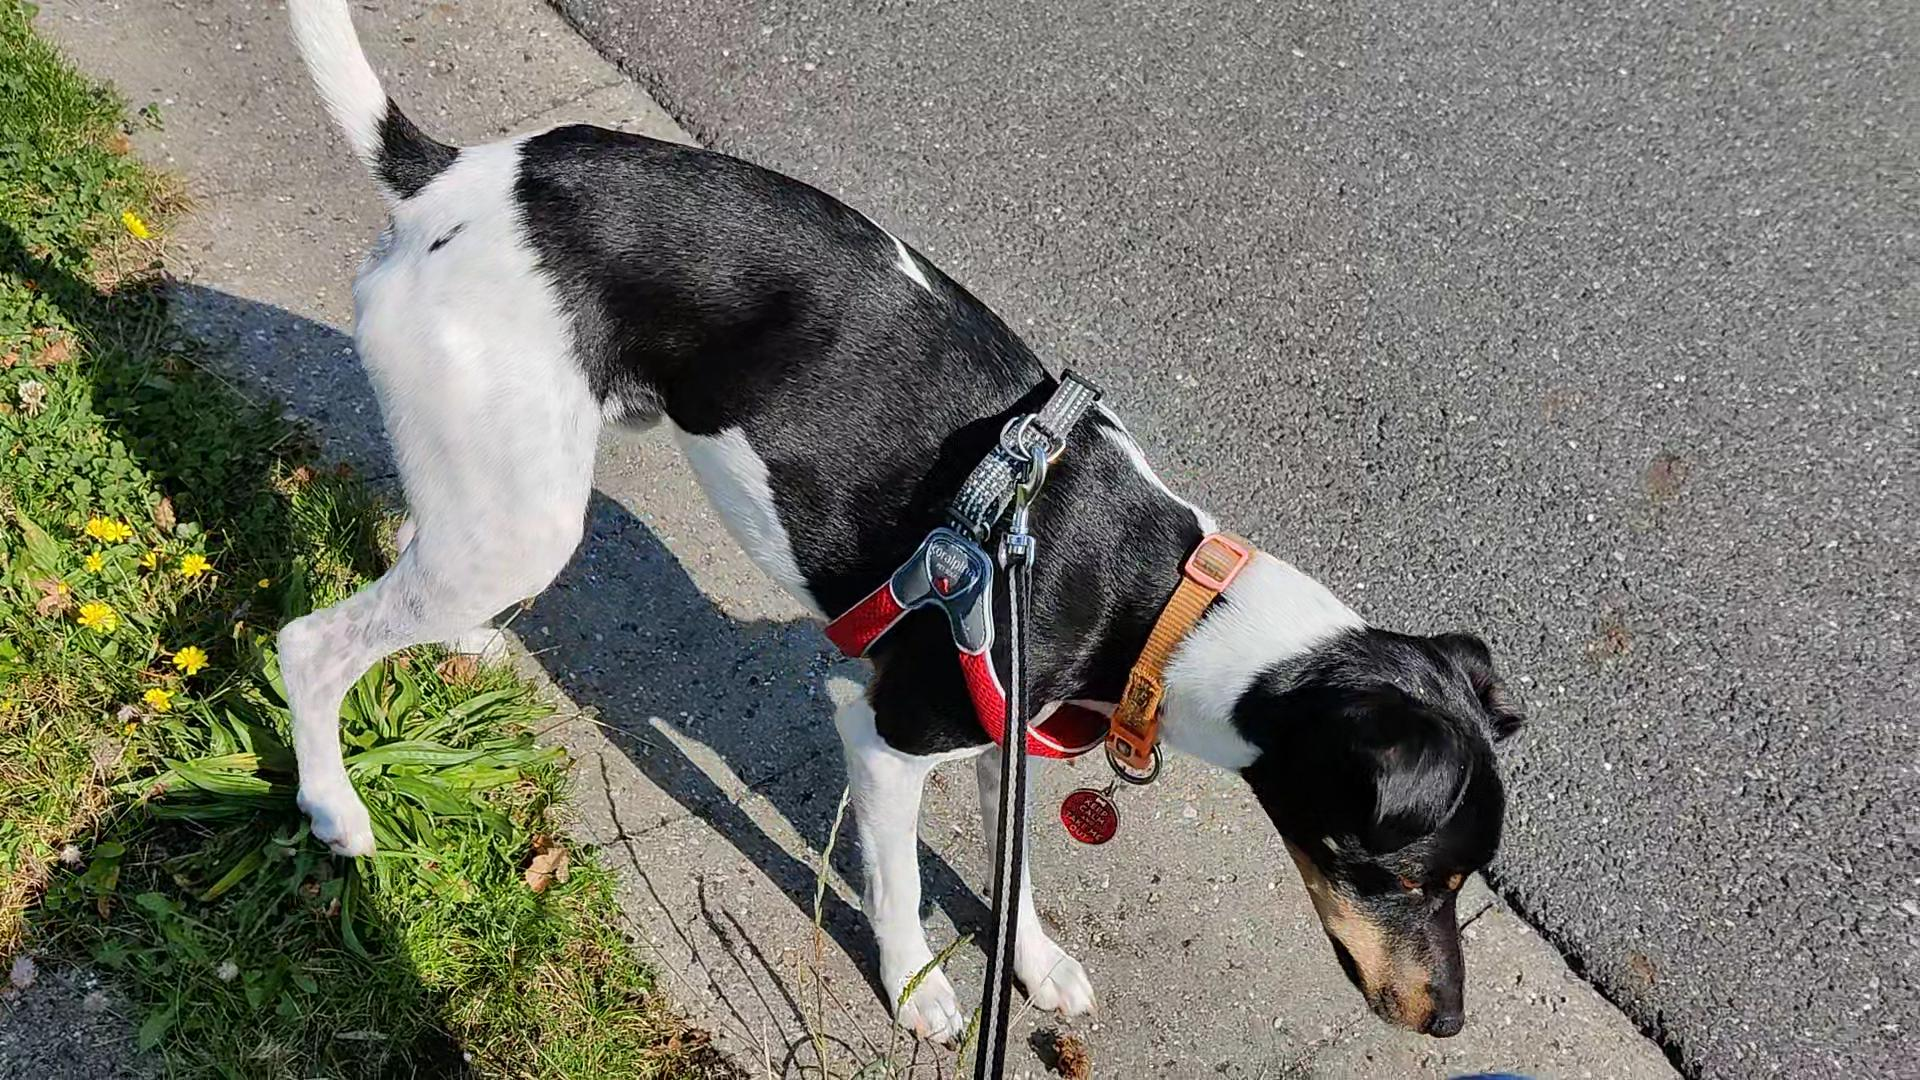Dog: (274, 0, 1531, 1058)
